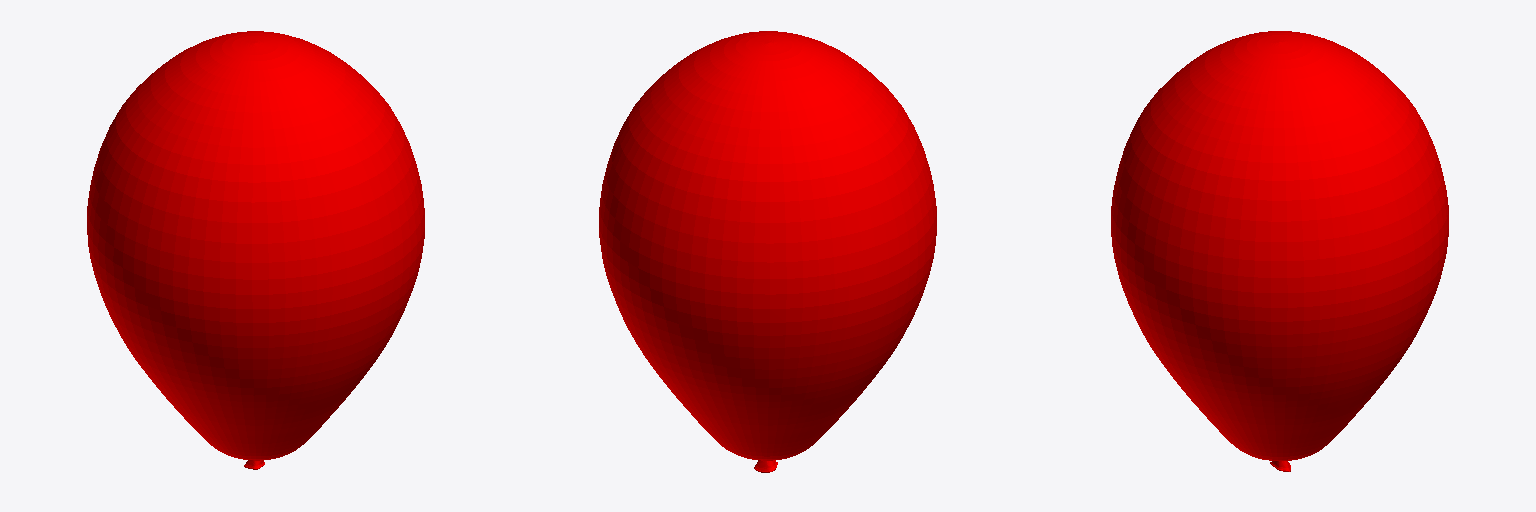
File: balloon.obj
The picture shows the model from 3 angles: view 1: azimuth 30°, elevation 25°; view 2: azimuth 150°, elevation 25°; view 3: azimuth 270°, elevation 25°; orthographic projection.
Visible parts, largest first — view 1: 11inch-tied.001_Material.010_0; view 2: 11inch-tied.001_Material.010_0; view 3: 11inch-tied.001_Material.010_0.
Part boxes in pixels (x1,y1,x2,y2): 11inch-tied.001_Material.010_0: (87, 31, 424, 469); 11inch-tied.001_Material.010_0: (599, 31, 936, 472); 11inch-tied.001_Material.010_0: (1111, 31, 1448, 471).
Bounding box in the file's own units: 0.2801 × 0.3898 × 0.2801.